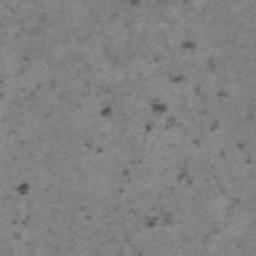Oxide scale of temperature system: (143, 38, 252, 165), (145, 209, 172, 228), (116, 168, 131, 193), (177, 169, 195, 186), (83, 142, 104, 155), (17, 180, 31, 196), (99, 106, 111, 116), (230, 196, 241, 204), (129, 0, 141, 6)
